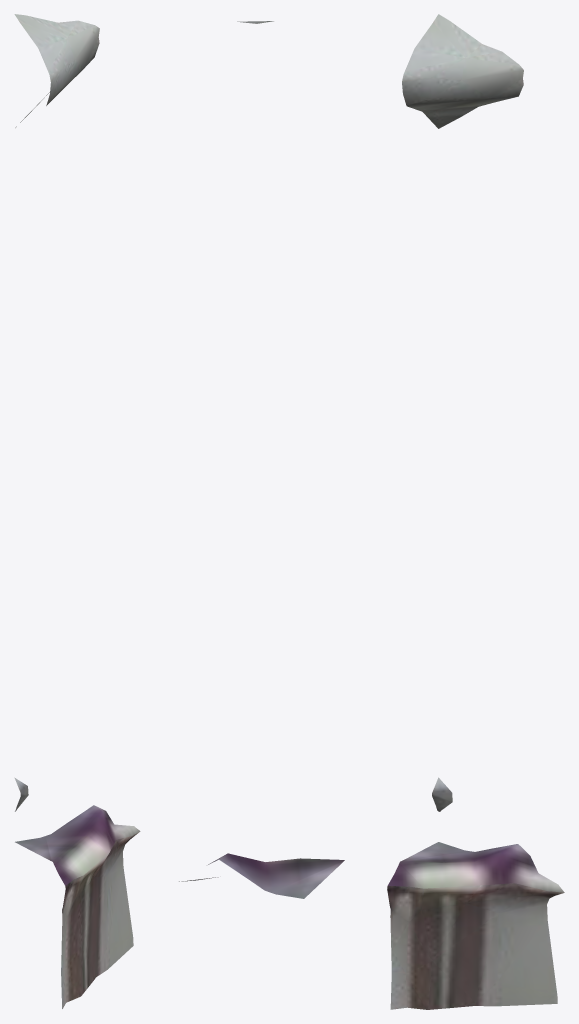
3 views of the same model, side by side, from view 1: azimuth 30°, elevation 25°; view 2: azimuth 150°, elevation 25°; view 3: azimuth 330°, elevation 25° (orthographic). The views are drawn at different scales.
Size of the model in its own units: 0.4381 by 3.18 by 0.3086.
1 material, 1 textured.
